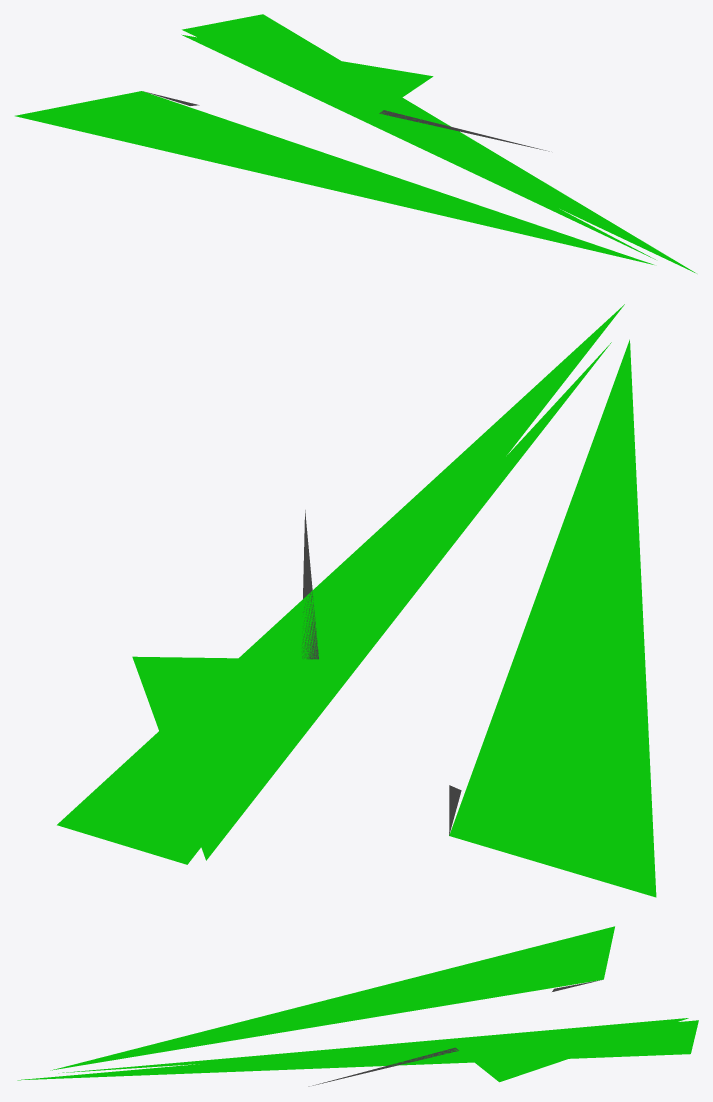
3 views of the same model, one above another, from view 1: azimuth 30°, elevation 25°; view 2: azimuth 150°, elevation 25°; view 3: azimuth 270°, elevation 25° (orthographic). The views are drawn at different scales.
Bounding box in the file's own units: 152 × 0 × 272.
